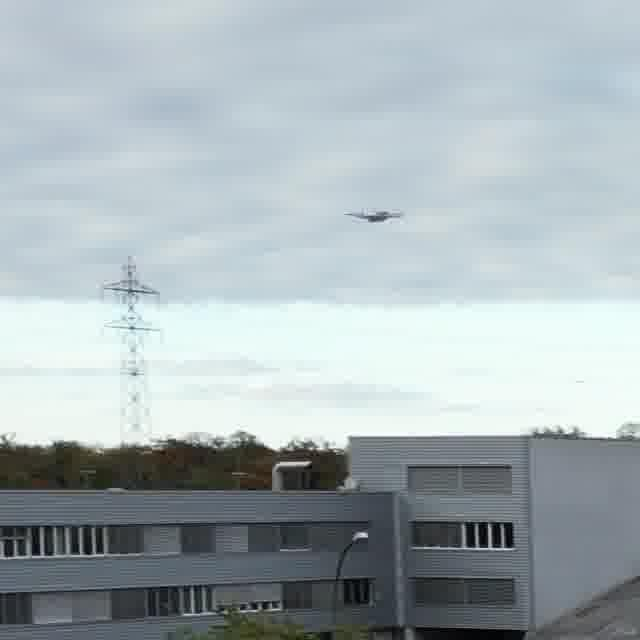Drohne: (345, 210, 403, 222)
